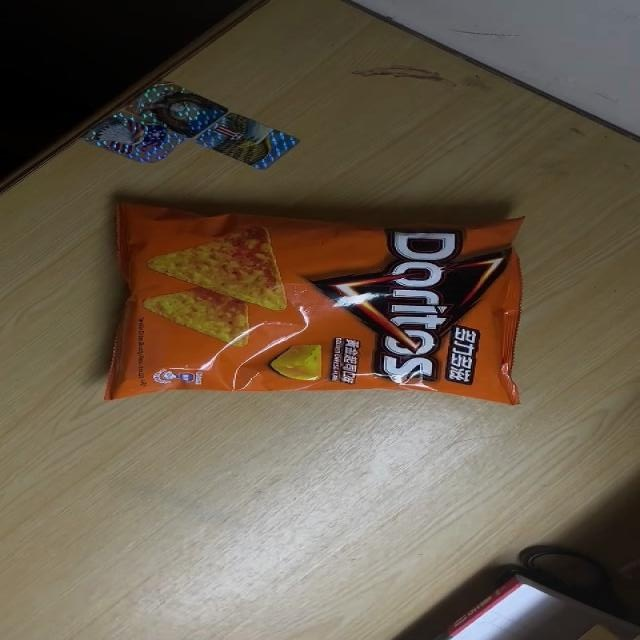Doritos: (104, 198, 528, 406)
